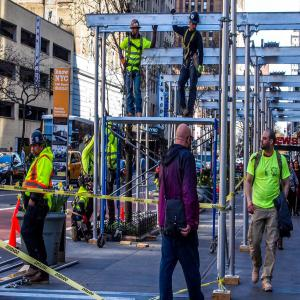blue: (30, 131, 46, 157), (190, 11, 200, 31), (84, 134, 93, 148)
none: (175, 124, 193, 149), (261, 129, 277, 152), (295, 161, 299, 170), (290, 163, 294, 169), (11, 147, 14, 152), (22, 147, 25, 151)
red: (132, 19, 141, 36), (110, 123, 119, 138), (87, 181, 95, 196)
